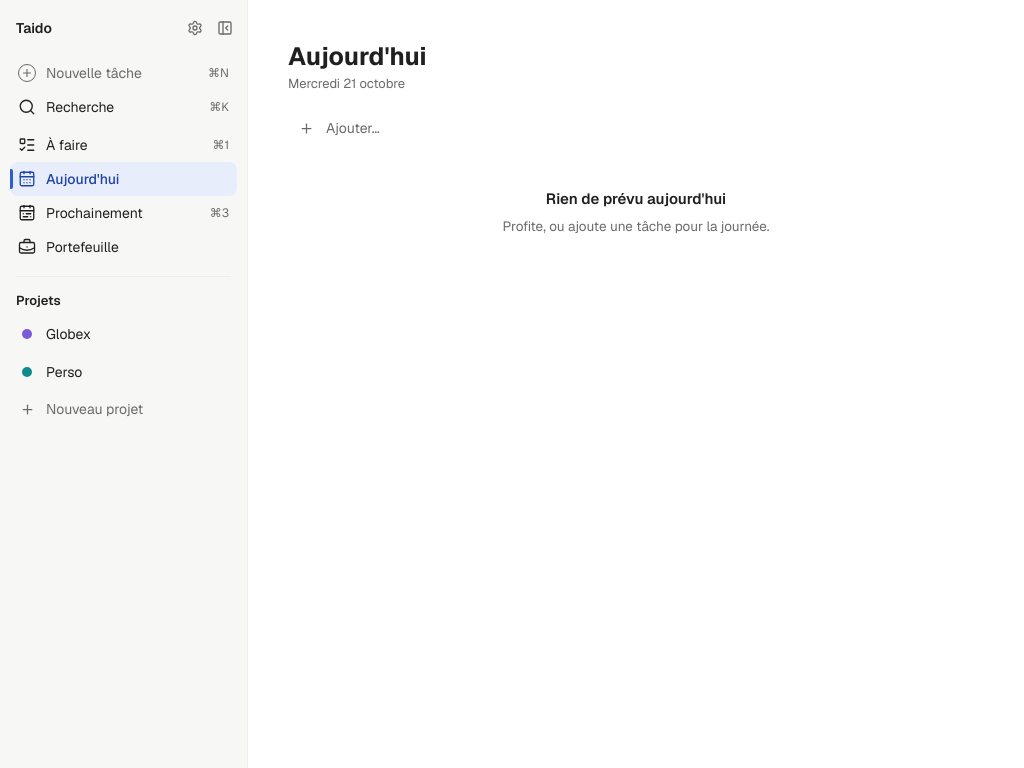
Sidebar navigation › moves the highlight by click and with ⌘2, never leaving it on the previous item
This screenshot has width=1024, height=768.
Click the button "Globex" at [124, 334], box [10,317,237,351]
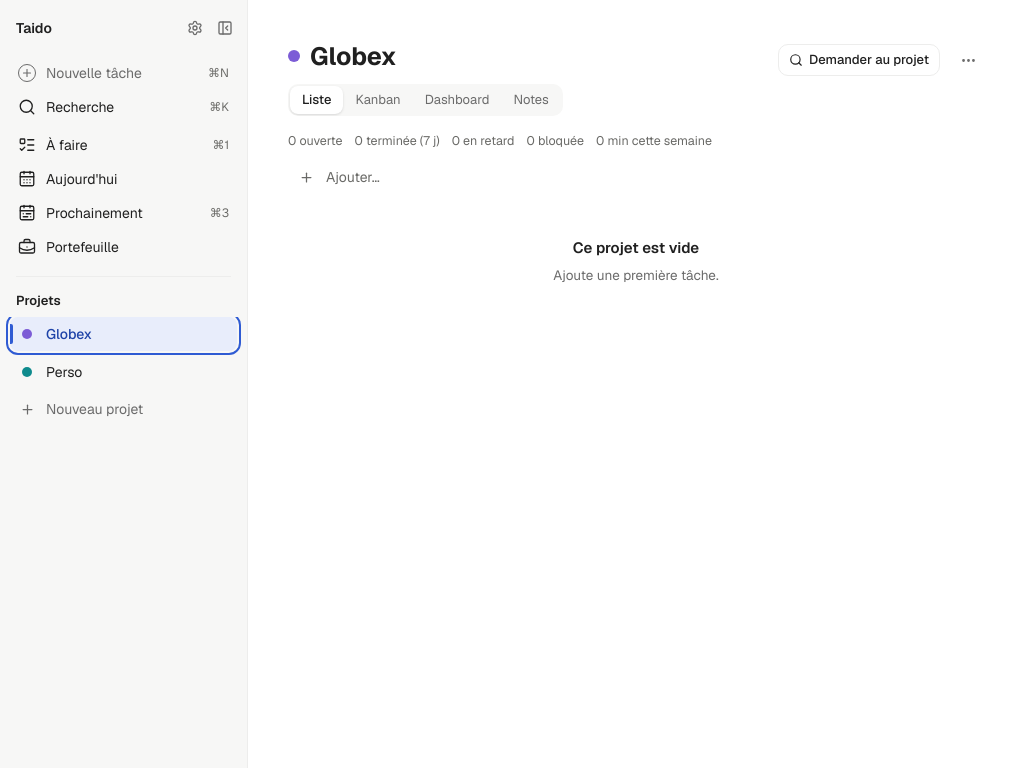
Now the element with class "nav-row-active" has class "nav-row-active", box [10,317,237,351]
Now the button "Aujourd'hui" does not have class "nav-row-active", box [10,162,237,196]
Click the button "Perso" at [124, 372], box [10,355,237,389]
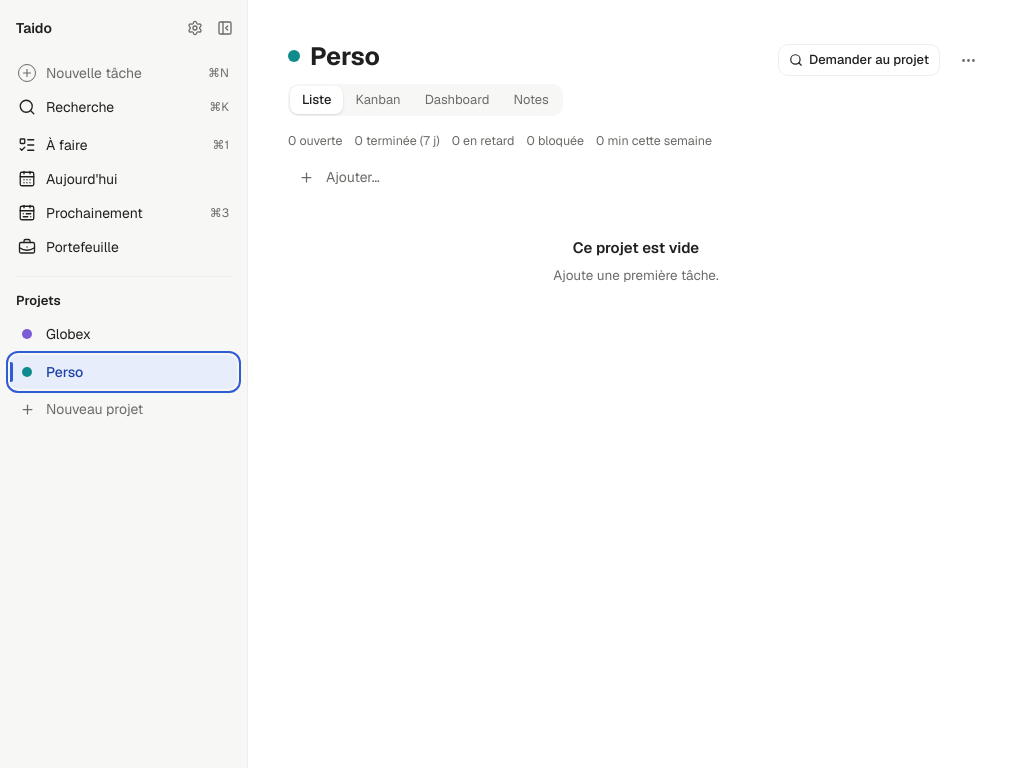
Now the element with class "nav-row-active" does not have class "nav-row-active", box [10,317,237,351]
Type keys "{Meta>}2{/Meta}"
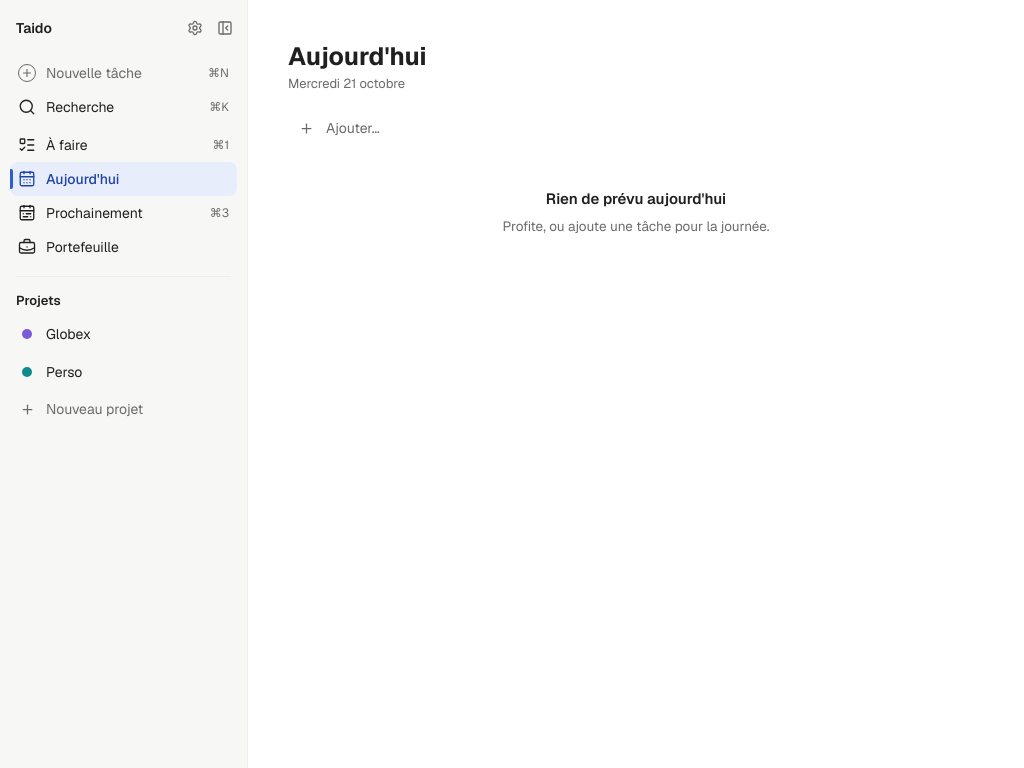
Now the heading "Aujourd'hui" is shown, box [288,40,426,72]
